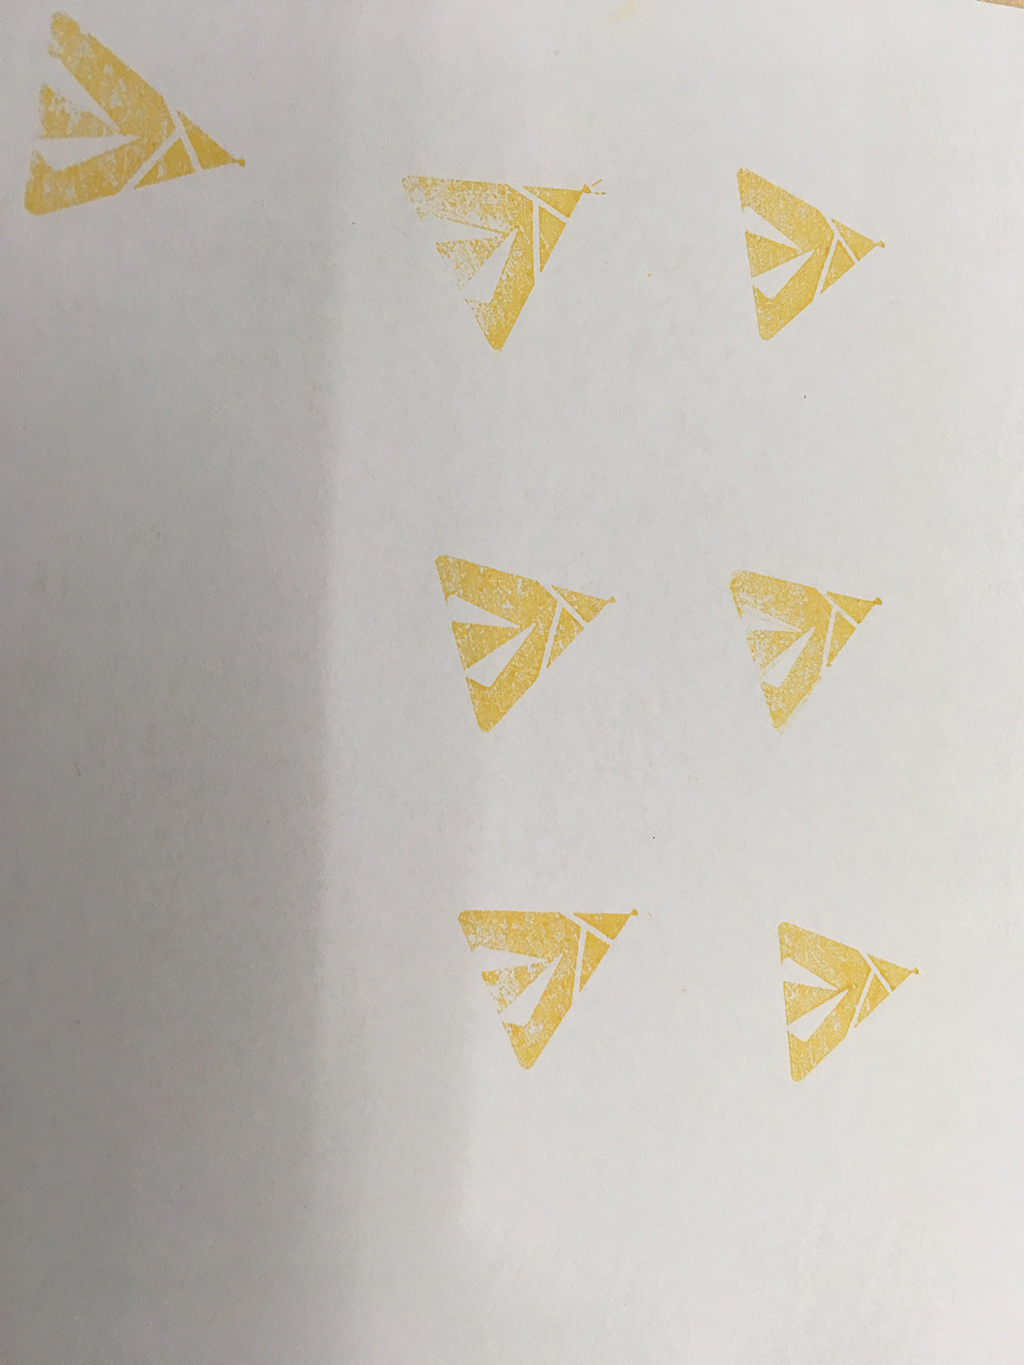tent: (13, 6, 248, 233), (392, 170, 620, 358), (424, 551, 625, 740), (447, 900, 648, 1075), (724, 162, 897, 358), (714, 558, 894, 739), (766, 915, 927, 1087)
